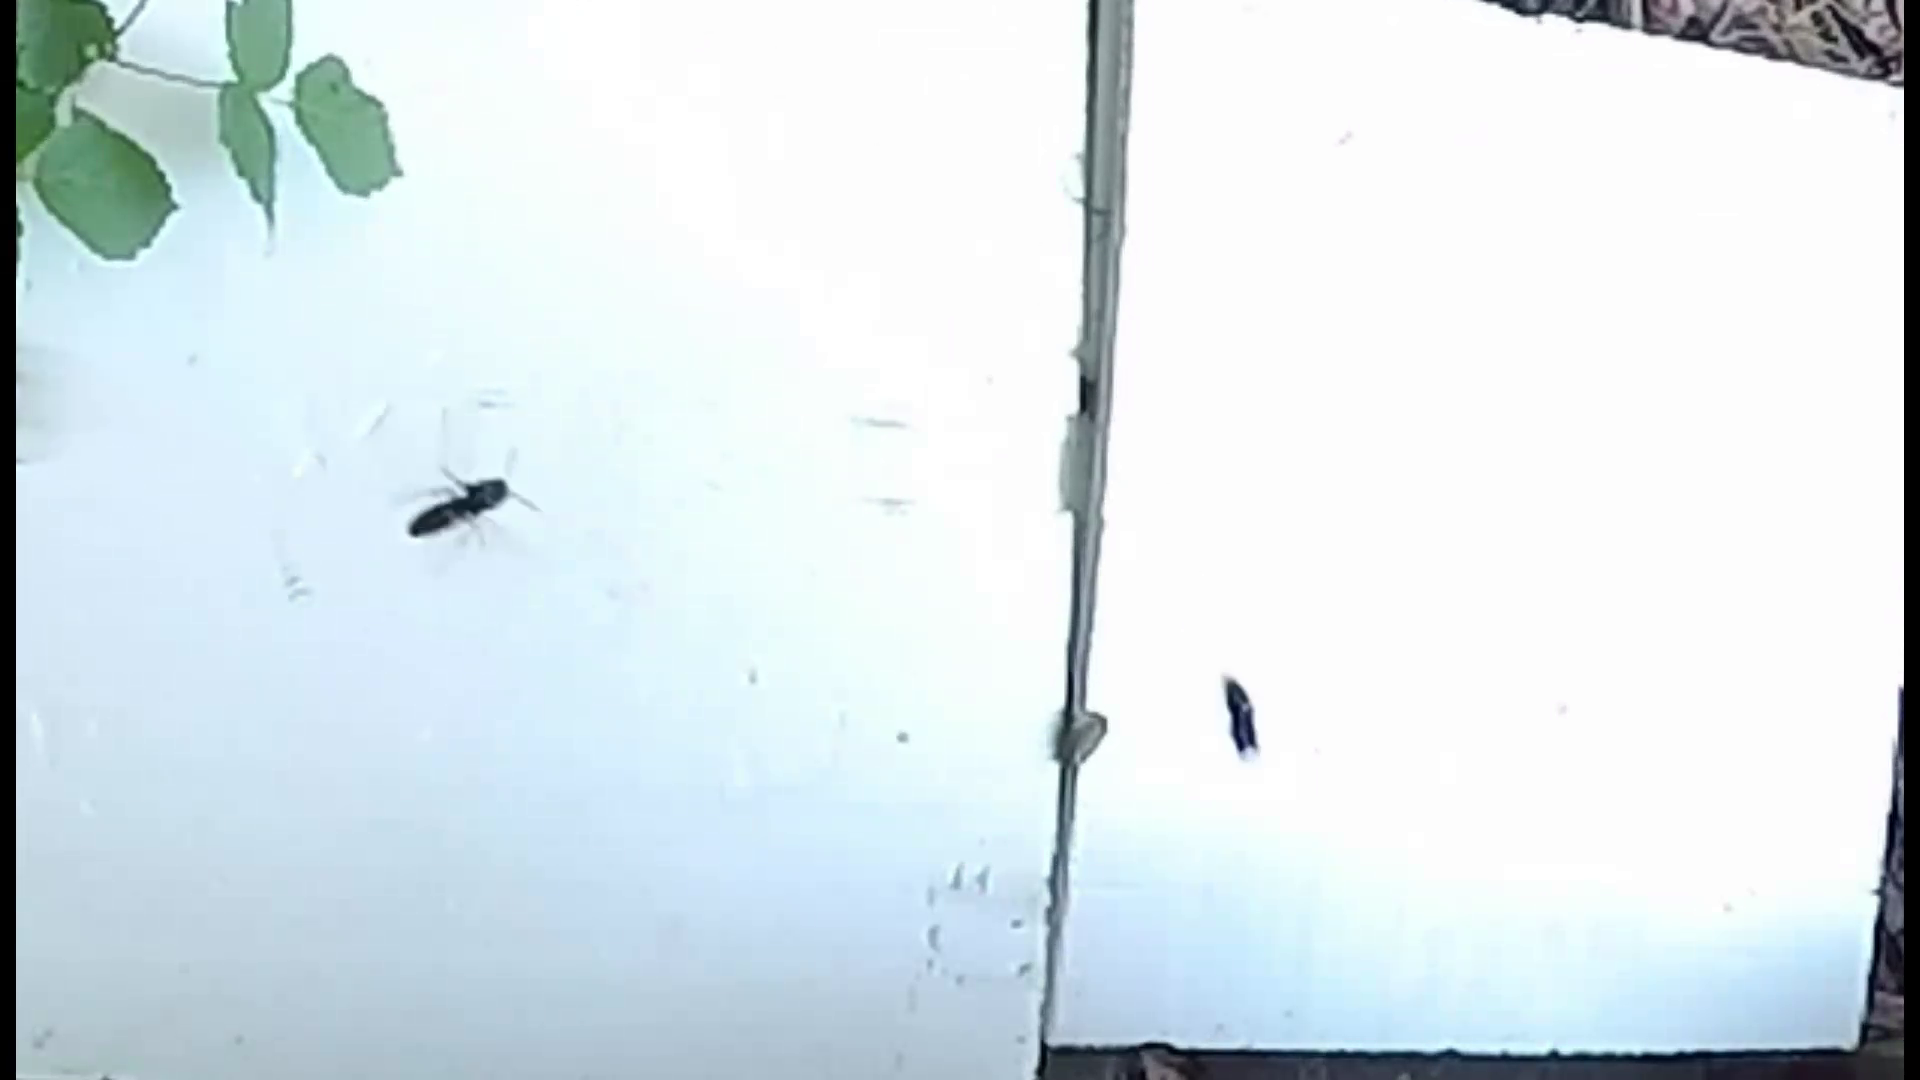Asian_hornets: (389, 436, 546, 563)
